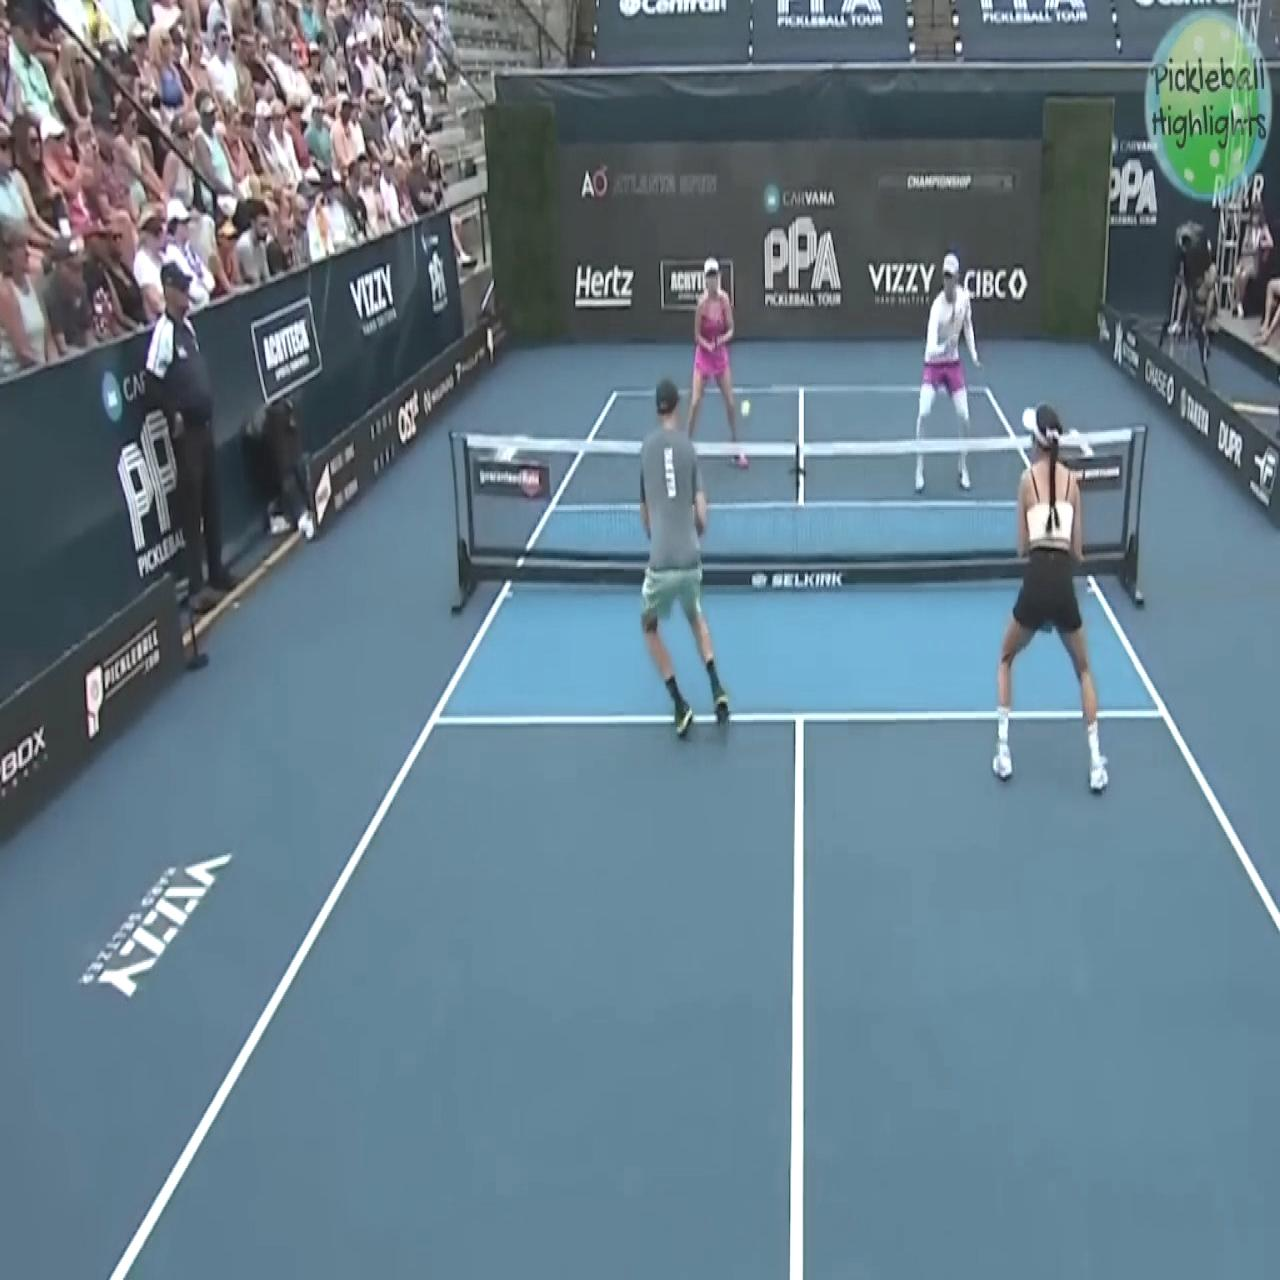Pickleball: (738, 392, 753, 420)
